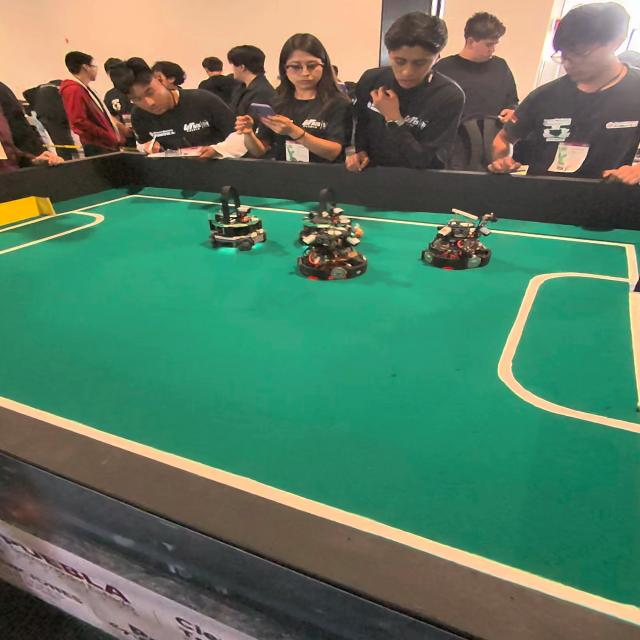Robot: (294, 202, 376, 287), (424, 206, 498, 272), (207, 182, 271, 254)
